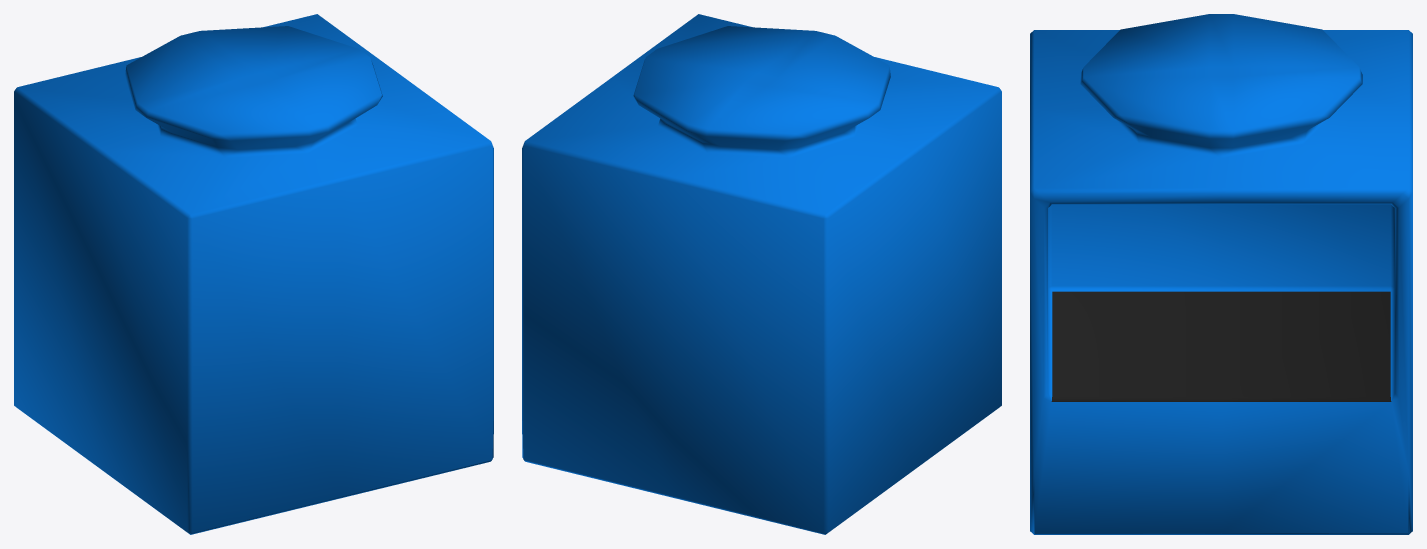
The model's file is foodEntry.fbx.
The picture shows the model from 3 angles, left to right: view 1: azimuth 30°, elevation 25°; view 2: azimuth 150°, elevation 25°; view 3: azimuth 270°, elevation 25°; orthographic projection. The views are drawn at different scales.
Parts seen in each view (by area): view 1: Cube; view 2: Cube; view 3: Cube.
Boxes of the visible parts, left/top/right/bottom form: Cube: left=14, top=14, right=493, bottom=534; Cube: left=522, top=14, right=1001, bottom=534; Cube: left=1030, top=14, right=1412, bottom=534.
Size of the model in its own units: 2 by 2 by 2.21.
